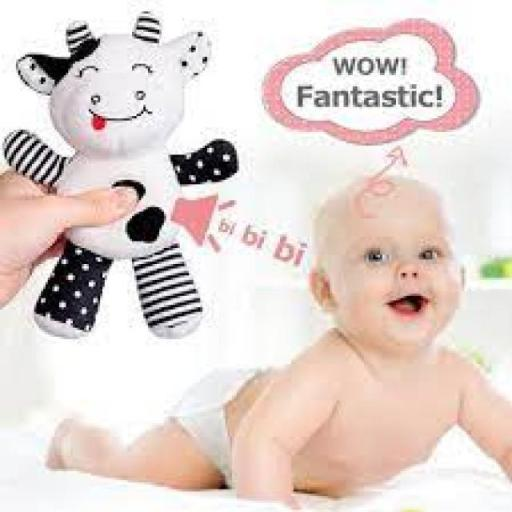baby: (46, 174, 512, 508)
